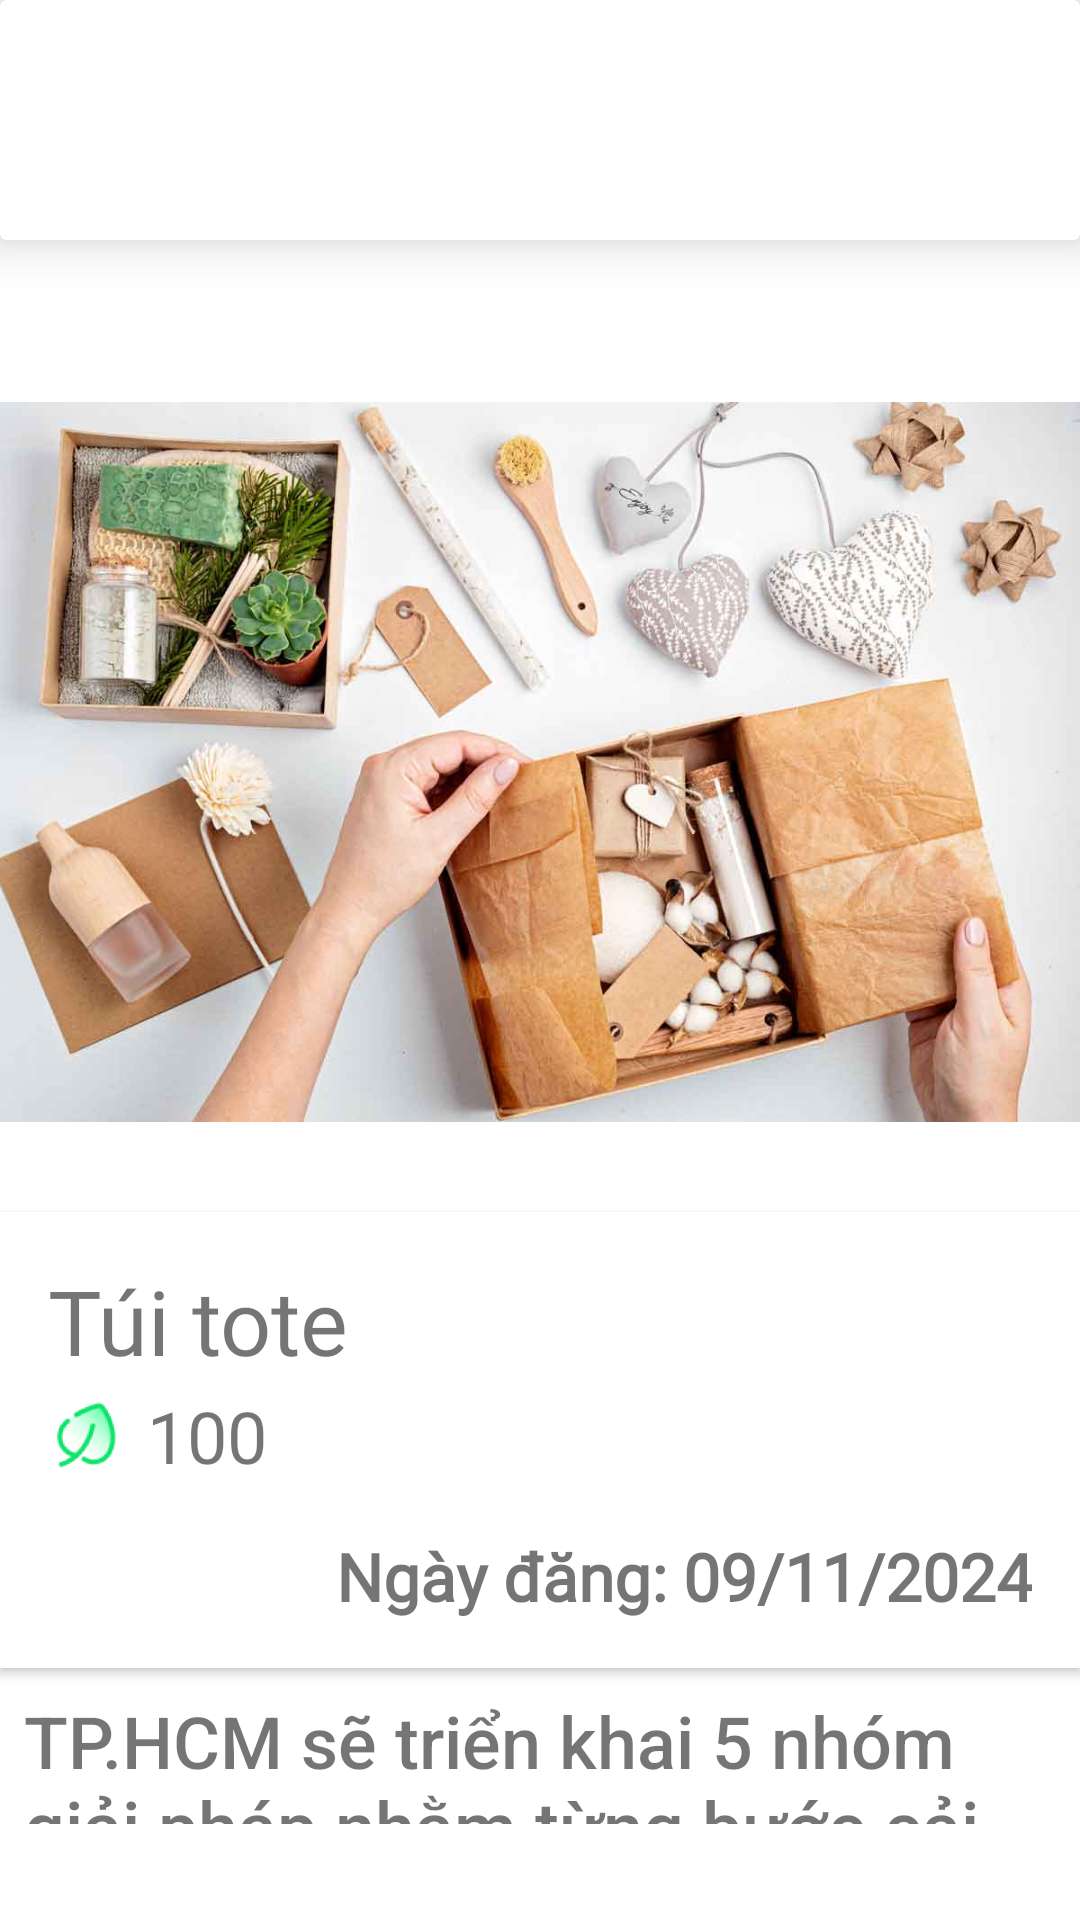

Point at icon controls on the screen. Image size 1080*1920, points as (x=x, y=y).
leaf: (x=86, y=1434)
